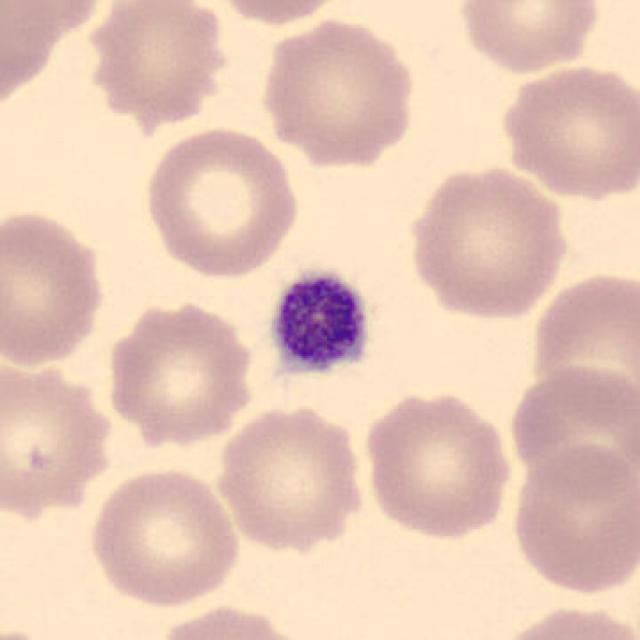Platelets: (263, 263, 373, 384)
RBC: (402, 160, 574, 322), (256, 12, 421, 170), (139, 122, 304, 280), (359, 386, 516, 543), (212, 400, 370, 554), (102, 296, 260, 446), (84, 464, 242, 610), (507, 439, 638, 599), (496, 60, 638, 203), (0, 352, 117, 523), (505, 358, 638, 502), (522, 262, 640, 423), (89, 0, 235, 129), (0, 205, 110, 370), (454, 0, 604, 76), (149, 601, 313, 640), (489, 599, 638, 640), (0, 0, 105, 44), (202, 0, 356, 28)
